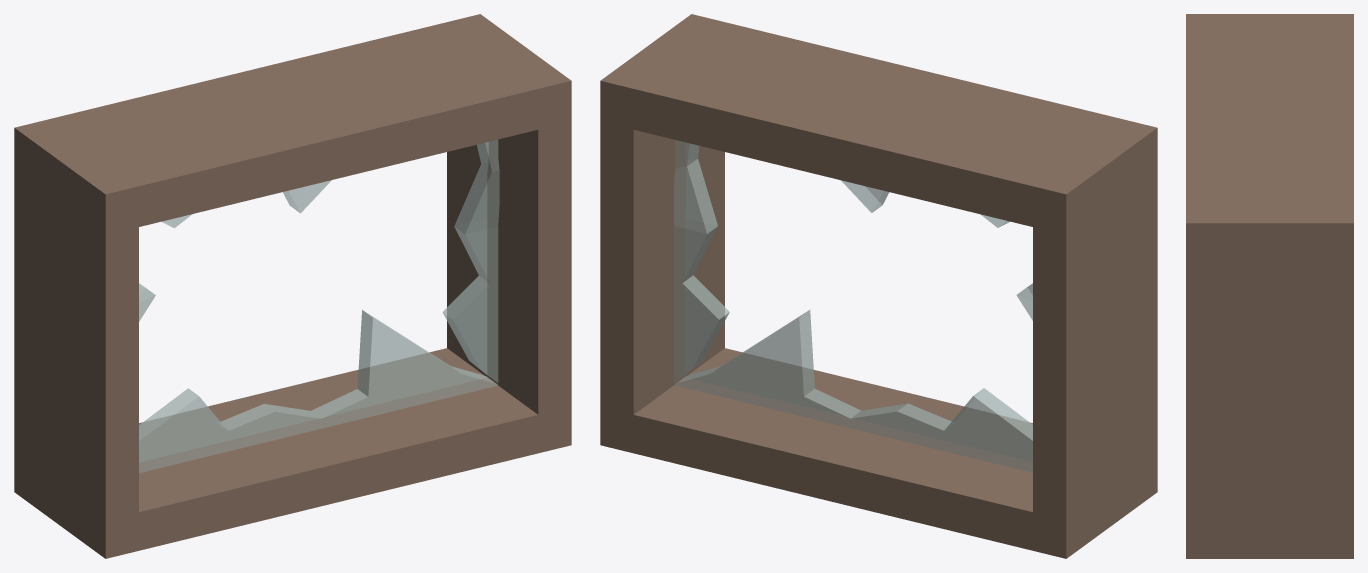
The model's file is windowBroken.fbx.
3 renders of one model, left to right at view 1: azimuth 30°, elevation 25°; view 2: azimuth 150°, elevation 25°; view 3: azimuth 270°, elevation 25°, orthographic. The views are drawn at different scales.
Visible parts, largest first — view 1: windowFrame15, glass, glass3, glass2; view 2: windowFrame15, glass, glass3, glass2; view 3: windowFrame15.
Part boxes in pixels (left/top/right/bottom): windowFrame15: left=14, top=14, right=571, bottom=558; glass: left=139, top=310, right=497, bottom=472; glass3: left=442, top=139, right=499, bottom=382; glass2: left=161, top=180, right=331, bottom=228; windowFrame15: left=600, top=14, right=1157, bottom=558; glass: left=674, top=310, right=1032, bottom=472; glass3: left=674, top=140, right=729, bottom=382; glass2: left=841, top=180, right=1009, bottom=227; windowFrame15: left=1186, top=14, right=1353, bottom=558.
Bounding box in the file's own units: 2.15 × 1.61 × 0.7279.
